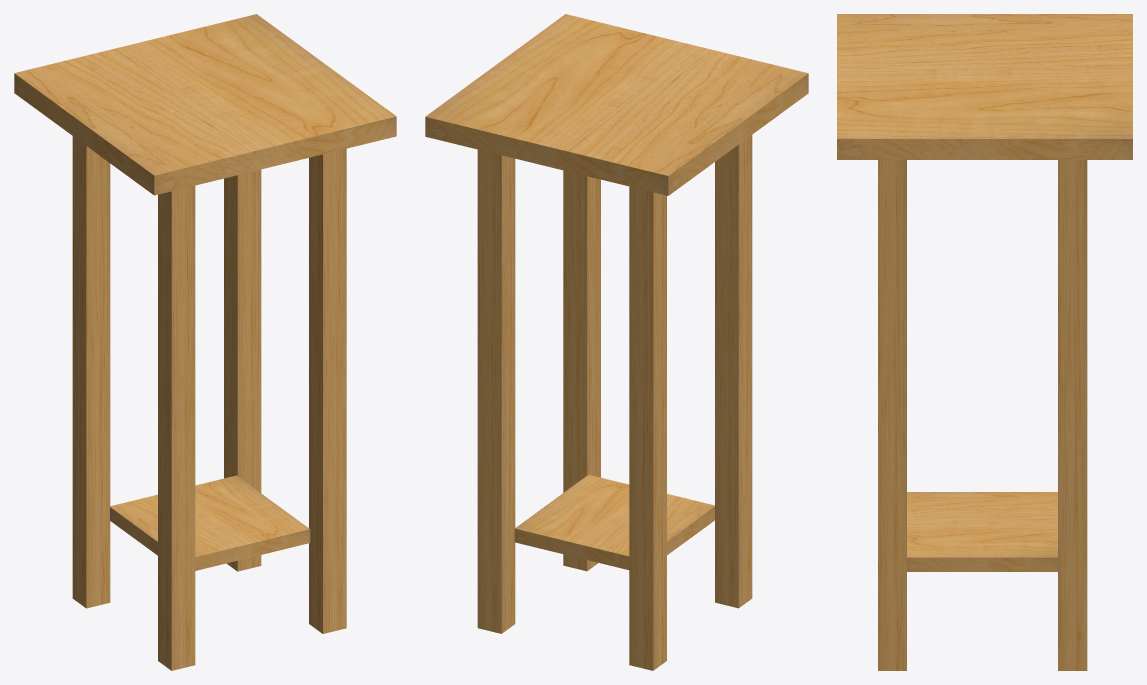
File: desk-1.FBX
3 renders of one model, left to right at view 1: azimuth 30°, elevation 25°; view 2: azimuth 150°, elevation 25°; view 3: azimuth 270°, elevation 25°, orthographic. The views are drawn at different scales.
Parts seen in each view (by area): view 1: desk-1; view 2: desk-1; view 3: desk-1.
Boxes of the visible parts, x1,y1,x2,y2 form: desk-1: (14, 14, 396, 670); desk-1: (425, 14, 808, 670); desk-1: (837, 14, 1132, 670).
Size of the model in its own units: 255 by 521 by 255.
1 material, 1 textured.
